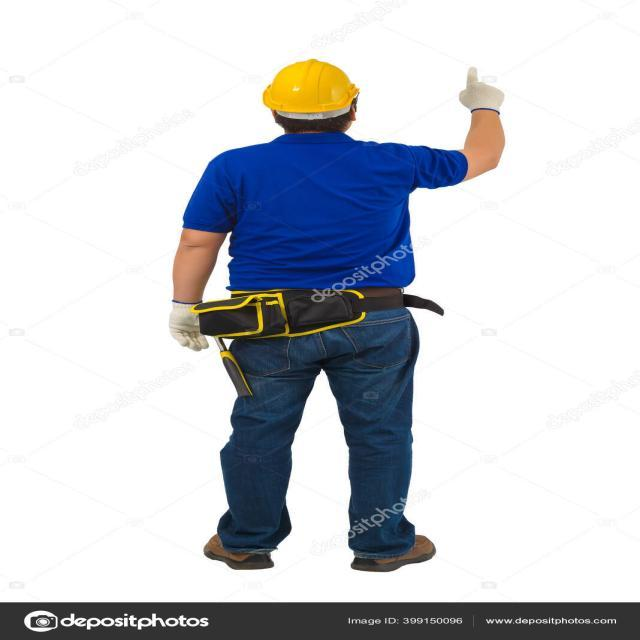helmet: (266, 53, 370, 137)
